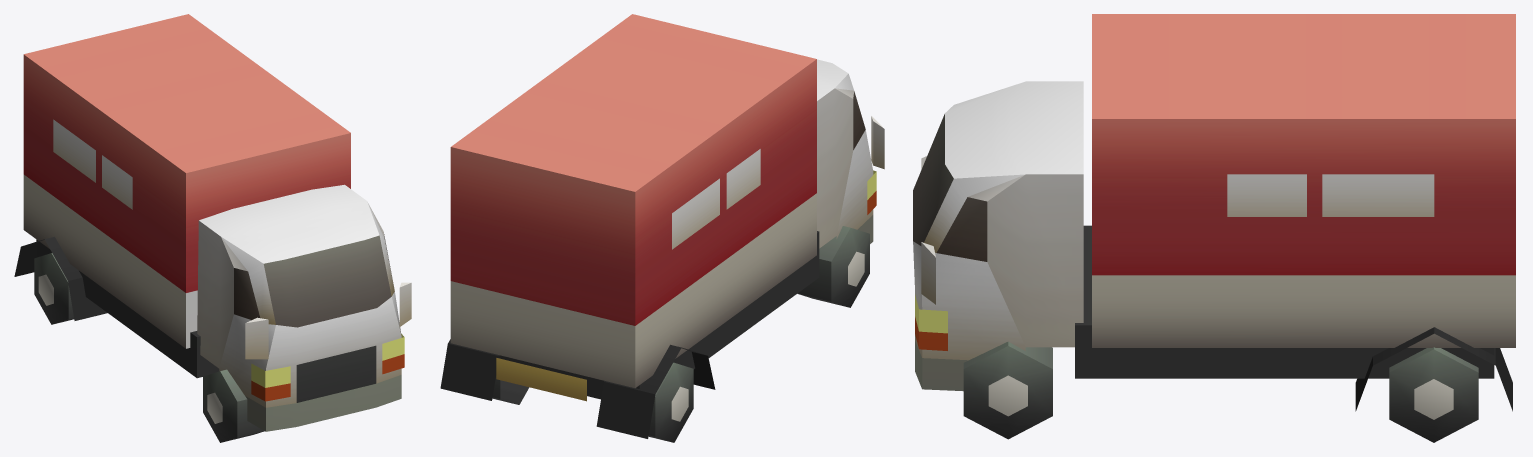
File: Traffic_Truck_02.fbx
The picture shows the model from 3 angles, left to right: view 1: azimuth 30°, elevation 25°; view 2: azimuth 150°, elevation 25°; view 3: azimuth 270°, elevation 25°; orthographic projection. The views are drawn at different scales.
Parts seen in each view (by area): view 1: Traffic_Truck_02; view 2: Traffic_Truck_02; view 3: Traffic_Truck_02.
Boxes of the visible parts, x1,y1,x2,y2 form: Traffic_Truck_02: (14,14,411,442); Traffic_Truck_02: (440,14,884,442); Traffic_Truck_02: (913,14,1515,442).
Size of the model in its own units: 0.8101 by 1.03 by 1.76.
